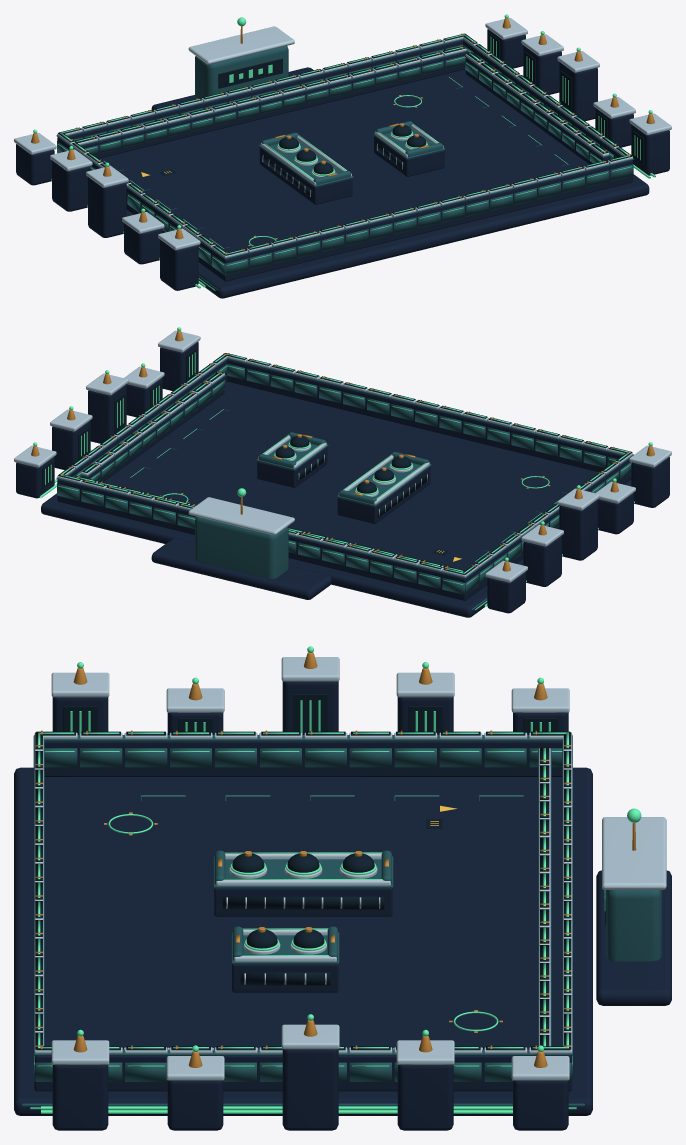
Rendered from rescue.runtime.gltf.
3 renders of one model, top to bottom at view 1: azimuth 30°, elevation 25°; view 2: azimuth 150°, elevation 25°; view 3: azimuth 270°, elevation 25°, orthographic. The views are drawn at different scales.
Parts seen in each view (by area): view 1: SOLID 0 border; view 2: SOLID 0 border; view 3: SOLID 0 border.
Part boxes in pixels (x1=…): SOLID 0 border: x1=14, y1=14, x2=671, y2=298; SOLID 0 border: x1=14, y1=327, x2=671, y2=617; SOLID 0 border: x1=14, y1=646, x2=671, y2=1130.
Size of the model in its own units: 25.51 by 4.34 by 18.3.
